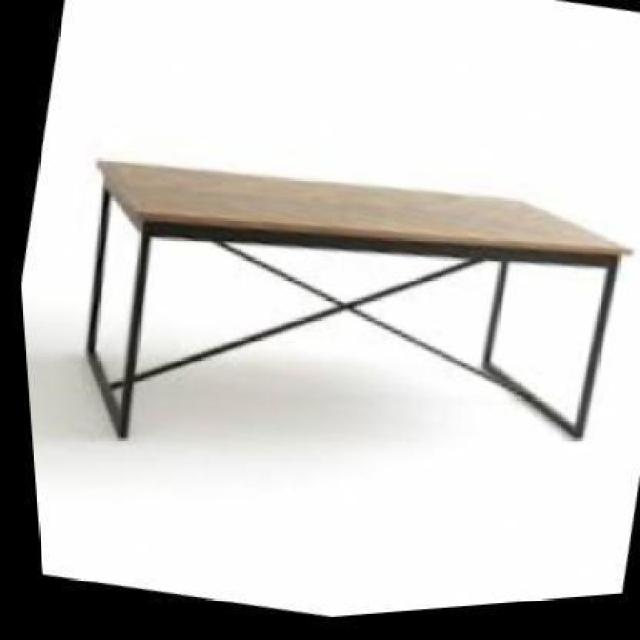tables: (83, 156, 632, 442)
